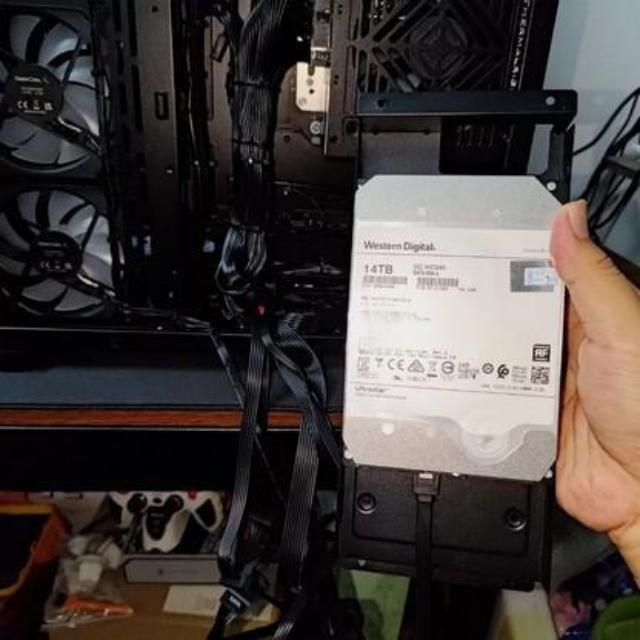DISK: (348, 158, 568, 494)
